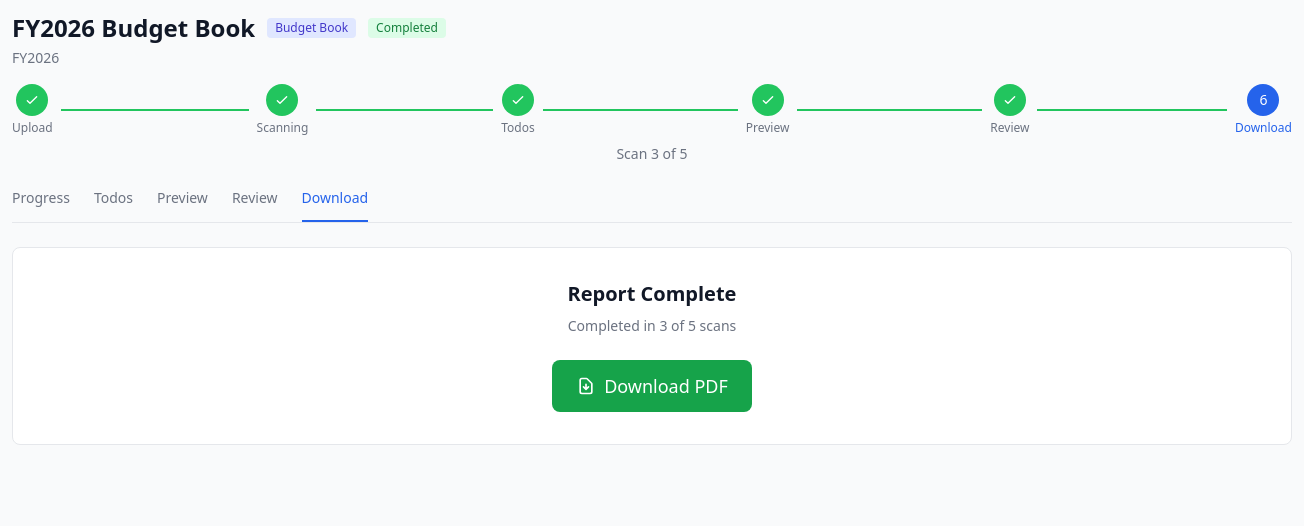
Test: ReportDetailPage › renders download tab with final scores
Click the button "Download". click: (335, 205)
box: top-left (302, 188), bottom-right (368, 222)
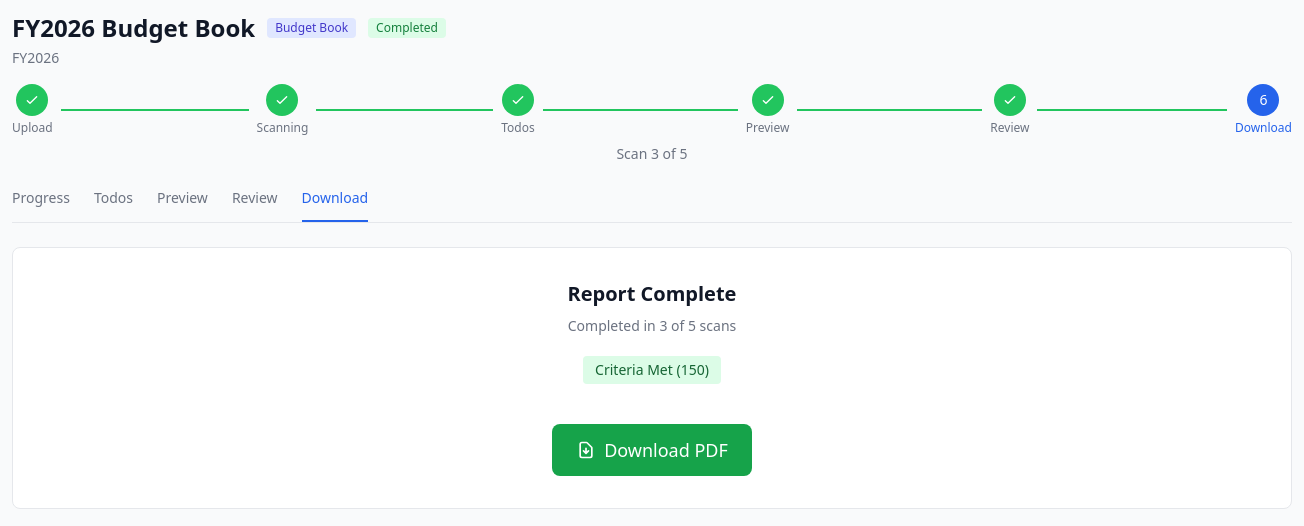
Expected: the text "Criteria Met (150)" is shown, top-left (583, 356), bottom-right (721, 384)
